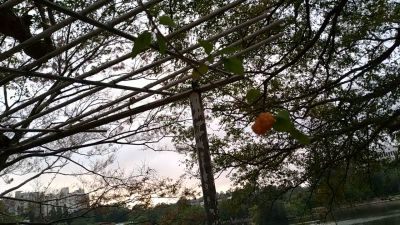eggs: (252, 111, 276, 136)
